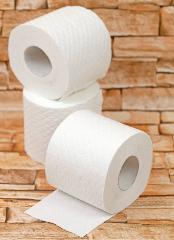paper: (7, 5, 153, 237), (45, 110, 153, 214), (8, 5, 112, 101), (22, 81, 104, 164), (24, 188, 118, 237)
